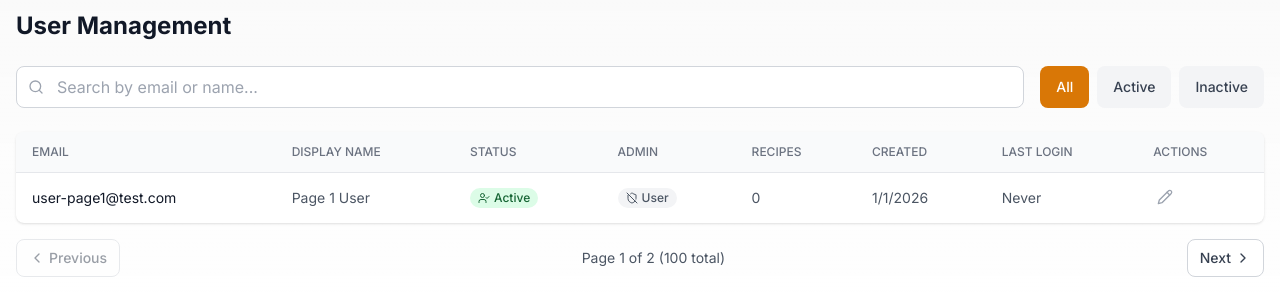
Test: UsersPage › pagination controls work
Check: the text "user-page1@test.com" is shown, box [16,172,276,223]
Check: the text "Page 1 of 2 (100 total)" is shown, box [582,248,725,268]
// Click Next
Click the button "Next" at (1225, 258), box [1187,239,1264,277]
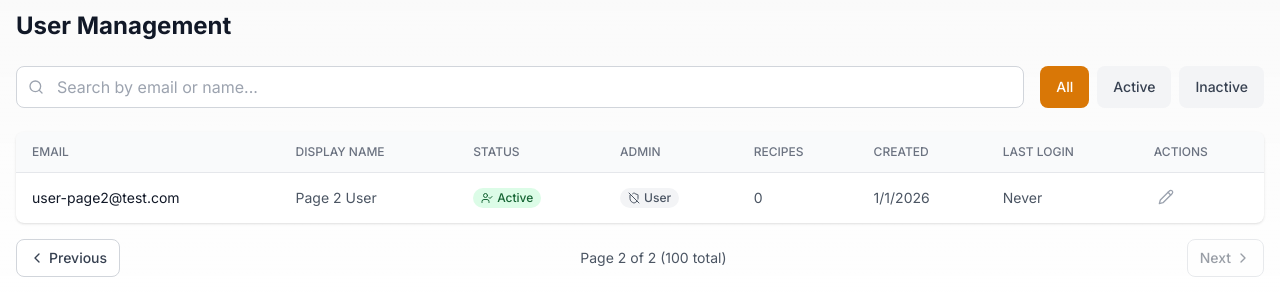
Check: the text "user-page2@test.com" is shown, box [16,172,280,223]
// Click Previous
Click the button "Previous" at (68, 258), box [16,239,120,277]
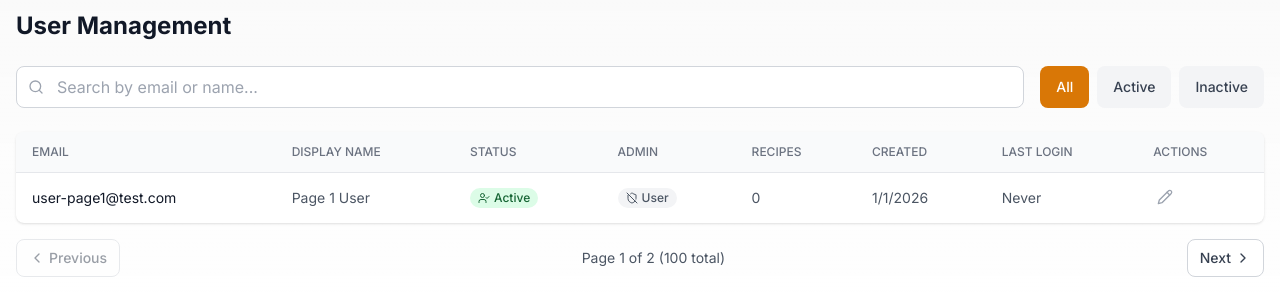
Check: the text "user-page1@test.com" is shown, box [16,172,276,223]
